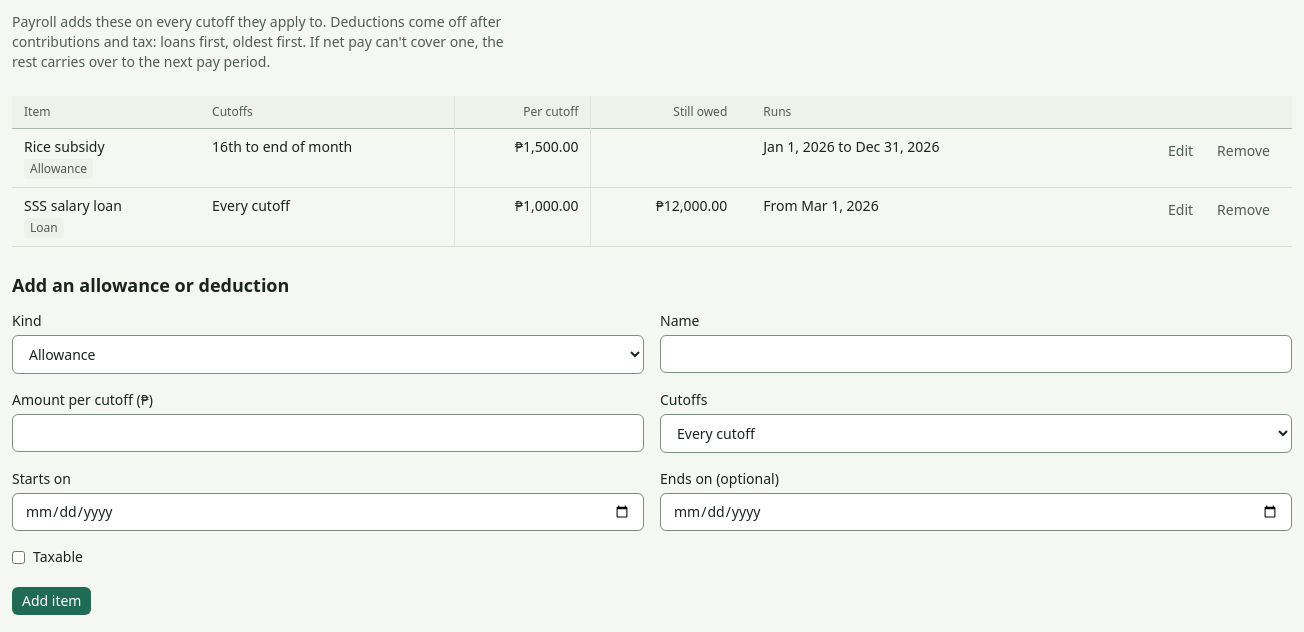
Test: PayItemsTab › edits an item in place, keeping its kind
expect the text "SSS salary loan" is shown: met, box [24,196,122,215]
Click the button with aria-label "Edit SSS salary loan" at point(1181, 210), box [1158,196,1203,224]
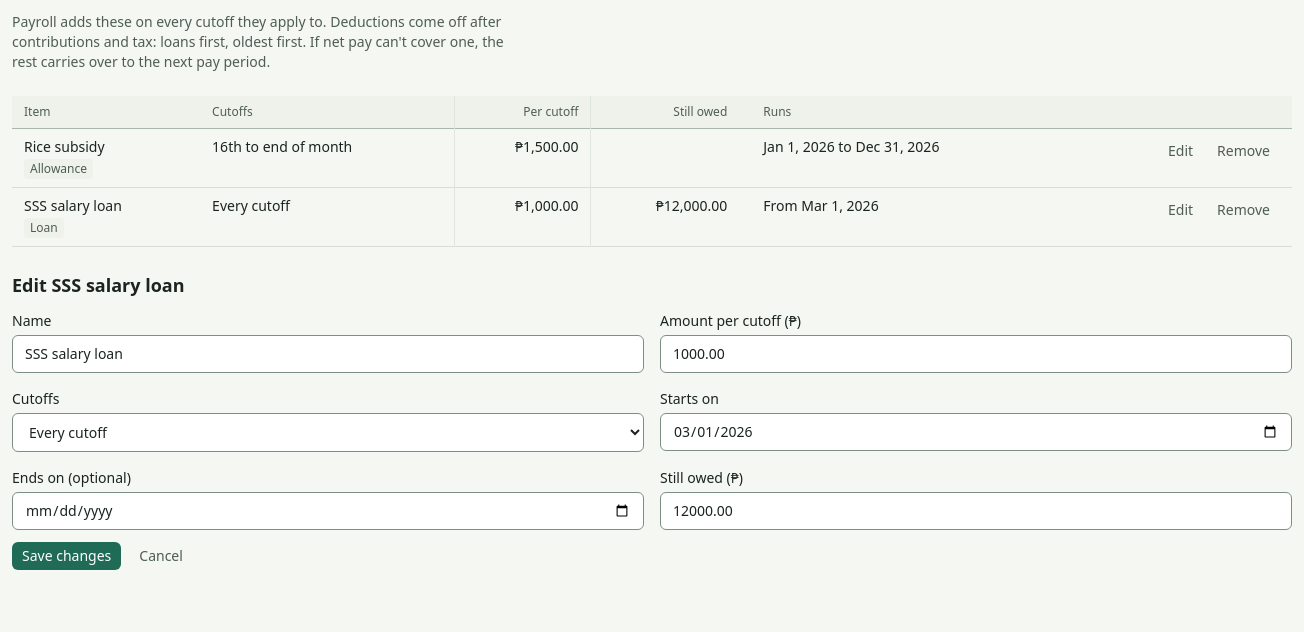
expect the label labelled "Kind" is gone: met
expect the field labelled "Still owed (₱)" holds "12000.00": met
Replace the text in the field labelled "Still owed (₱)" with "11,000" at point(976, 511), box [660,492,1292,530]
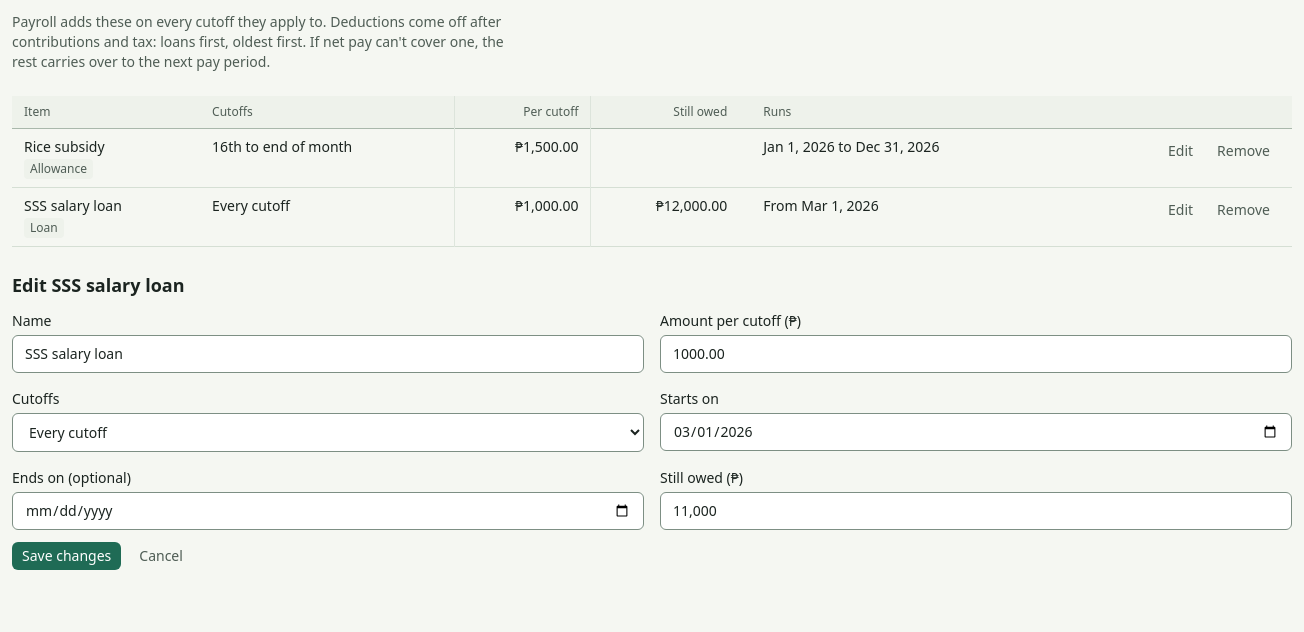
Click the button "Save changes" at point(67, 556), box [12,542,121,570]
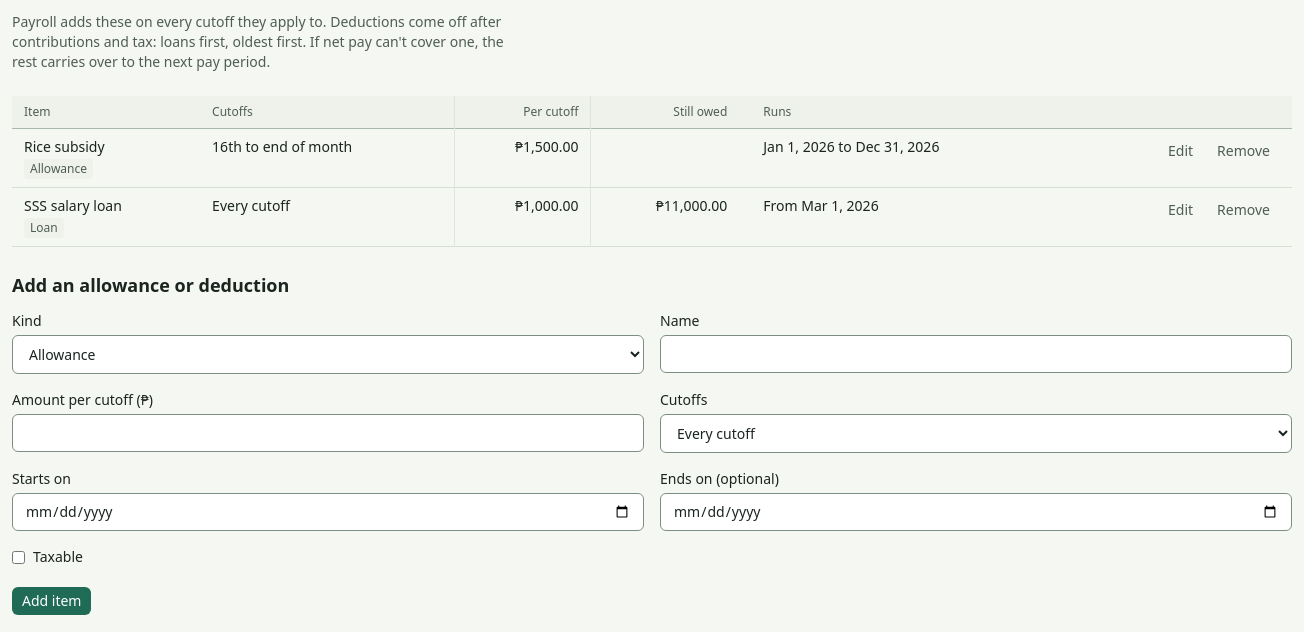
expect the text "₱11,000.00" is shown: met, box [591,188,739,246]
